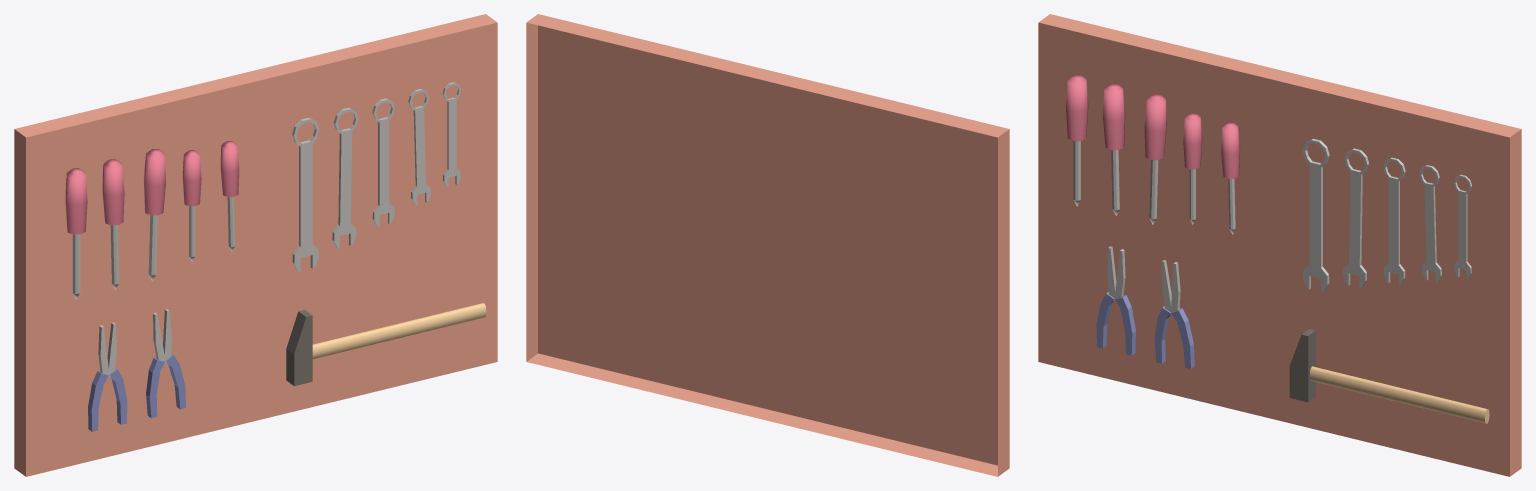
The model's file is outils.fbx.
3 renders of one model, left to right at view 1: azimuth 30°, elevation 25°; view 2: azimuth 150°, elevation 25°; view 3: azimuth 330°, elevation 25°, orthographic.
Parts seen in each view (by area): view 1: outils; view 2: outils; view 3: outils.
Boxes of the visible parts, x1,y1,x2,y2 form: outils: (14,14,497,476); outils: (526,14,1009,476); outils: (1038,14,1521,476).
Bounding box in the file's own units: 218 × 150 × 18.66.
